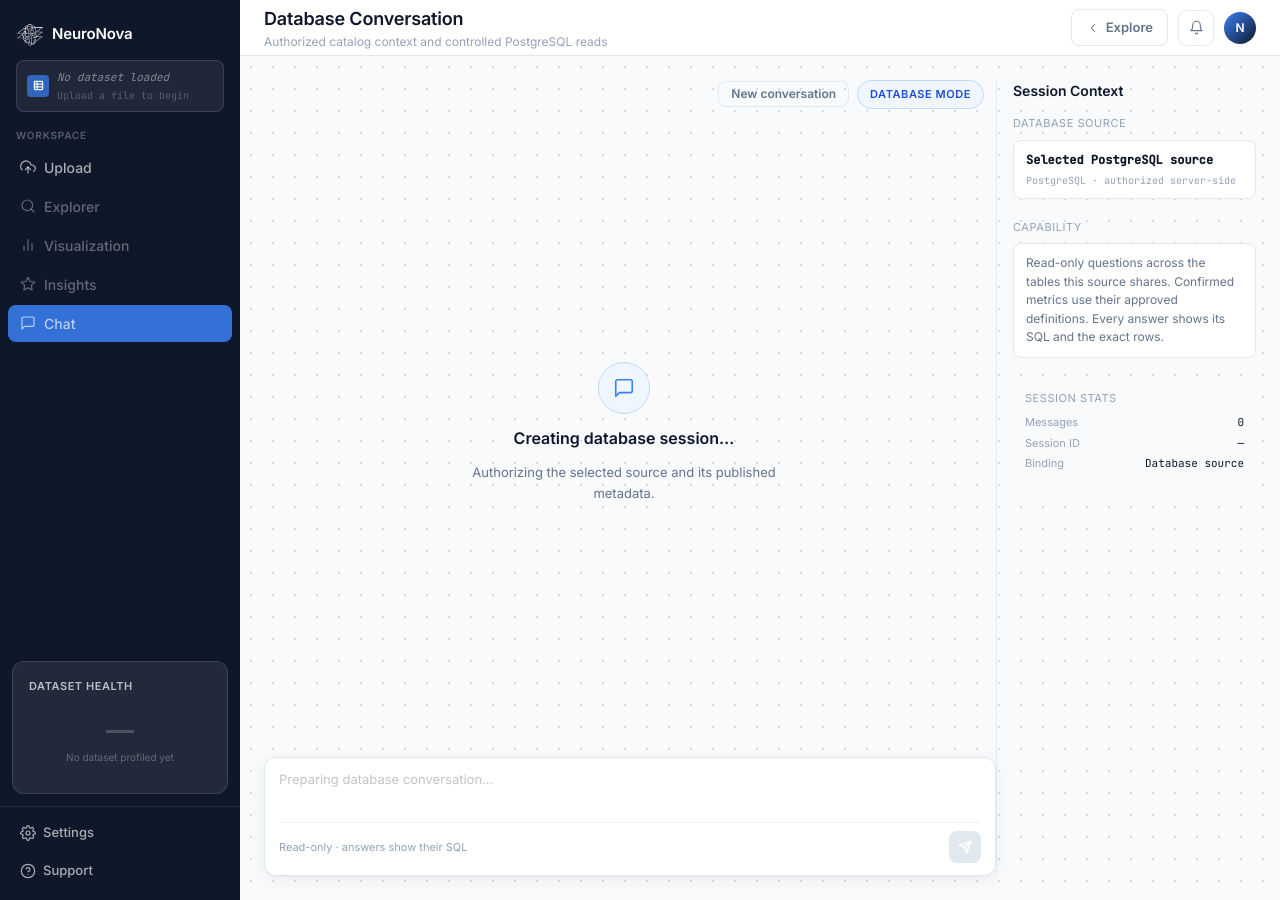
it: does not duplicate a terminal clarification when its matching token arrives
The width and height of the screenshot is (1280, 900).
Type "Show revenue" into the text box named "Database question" at (630, 790), box [279,770,981,809]
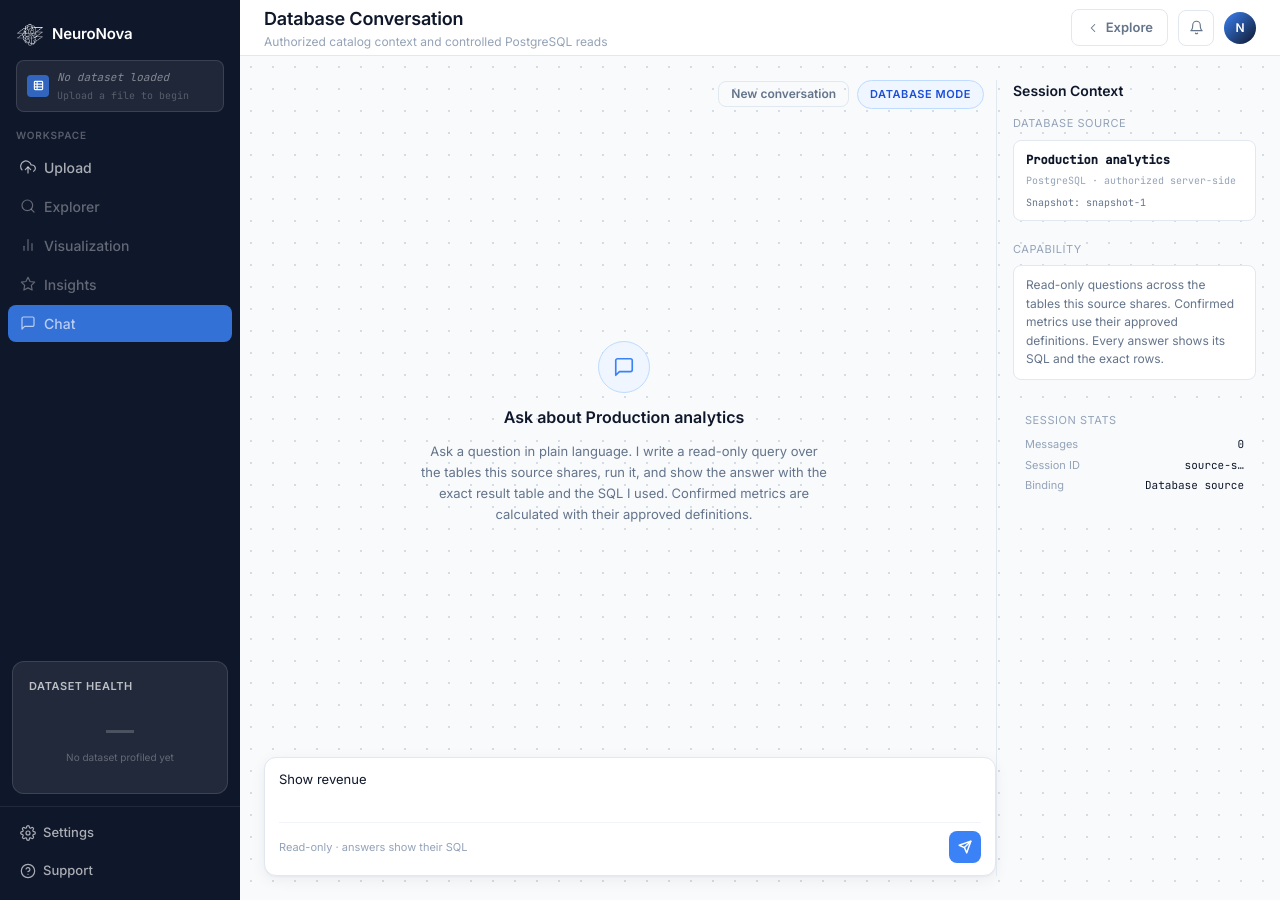
Click the button named "Send database question" at (965, 847), box [949,831,981,863]
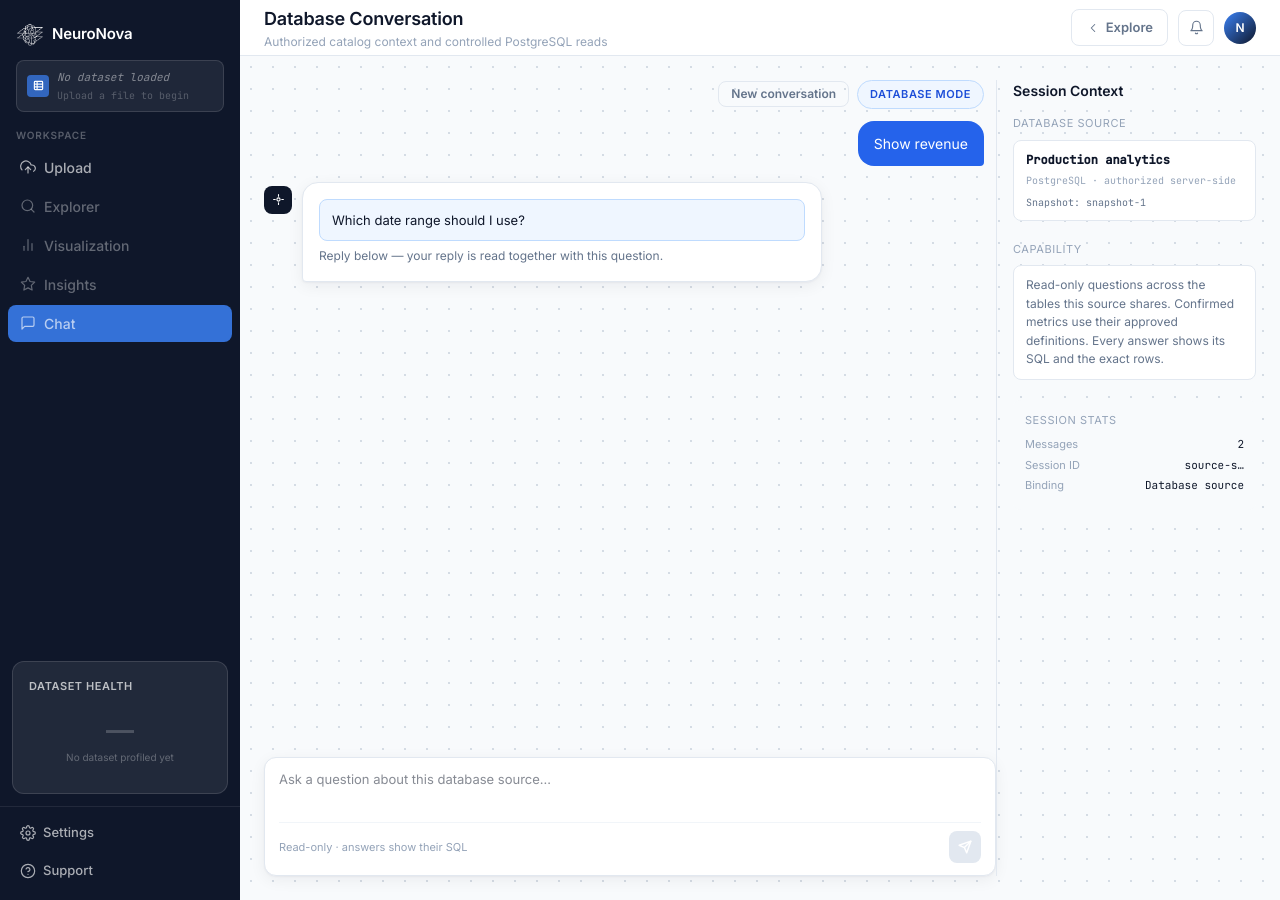
expect the text "Which date range should I use?" is shown: met, box [319,198,805,241]
expect the text "Reply below — your reply is read together with this question." is shown: met, box [319,248,663,263]
